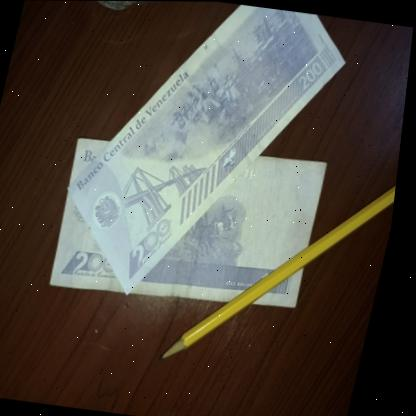ten-back-vef: (47, 128, 336, 317)
two_hundred-back-vef: (47, 0, 357, 315)
